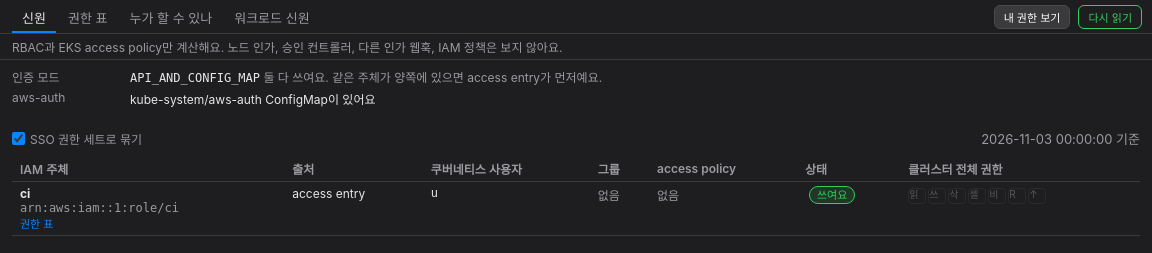
Test: refreshing reads again with force and replaces what is shown
This screenshot has width=1152, height=253.
Expected: the text "arn:aws:iam::1:role/ci" is shown, [20,201,179,215]
Click the button "다시 읽기" at (1110, 16), box [1078,4,1142,28]
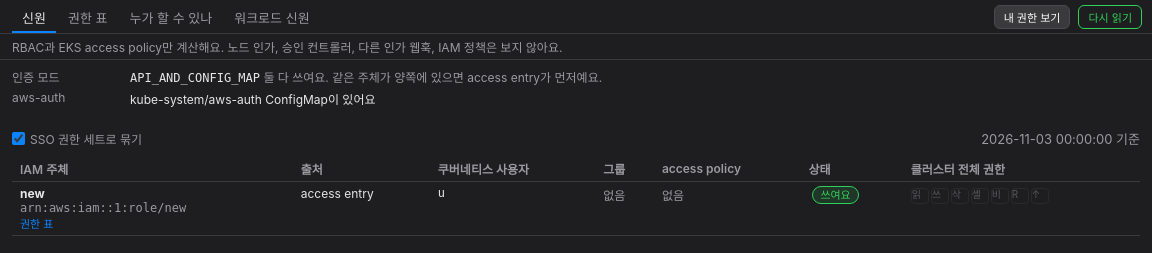
Expected: the text "arn:aws:iam::1:role/new" is shown, [20,201,186,215]
